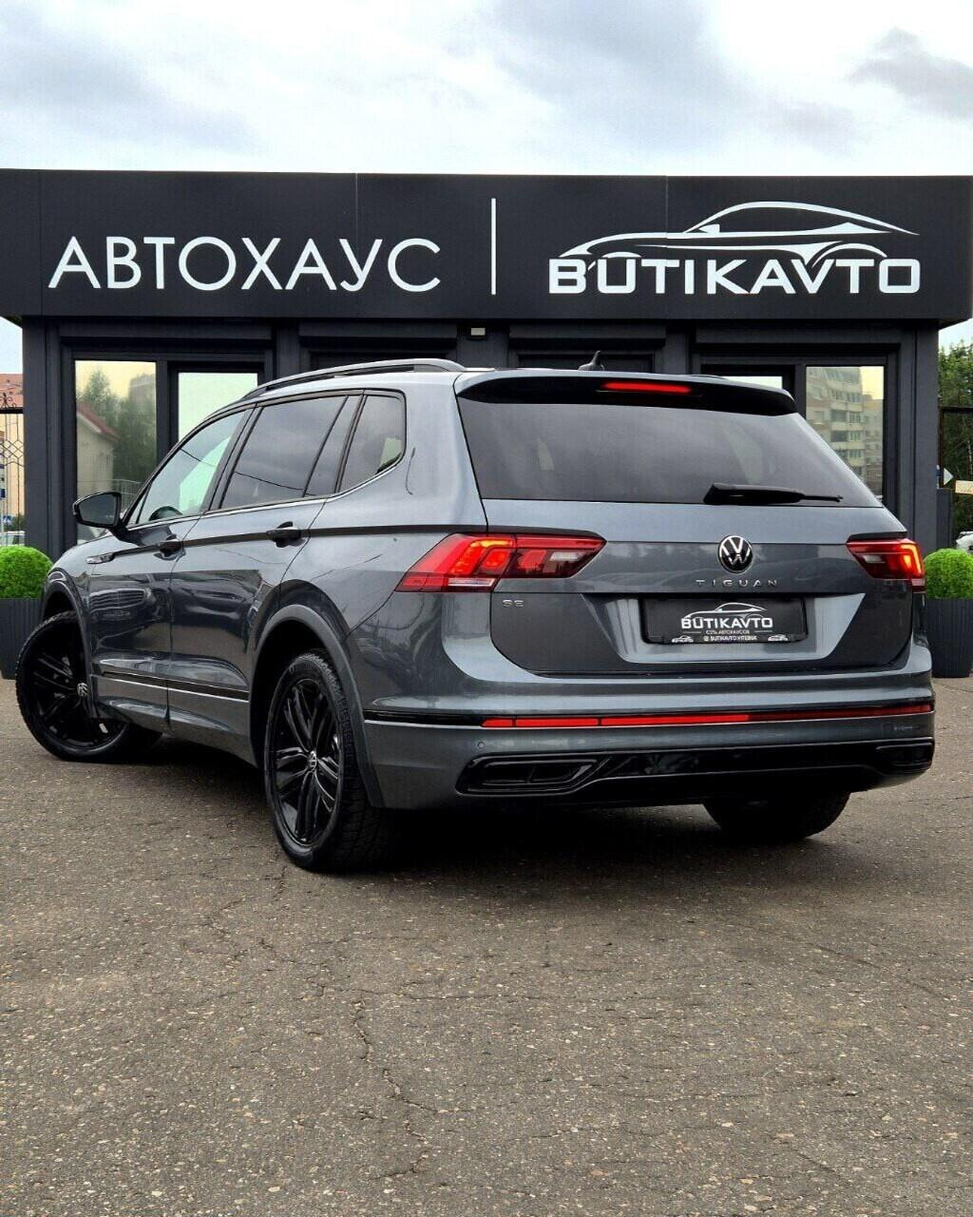Tiguan_2020-2024: (25, 364, 941, 878)
